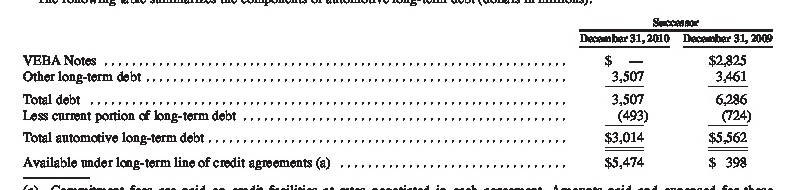table: (0, 0, 790, 190)
